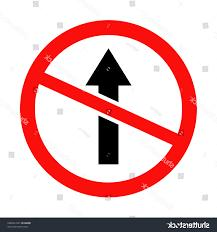Straight Prohibitor No Entry: (13, 11, 212, 208)
